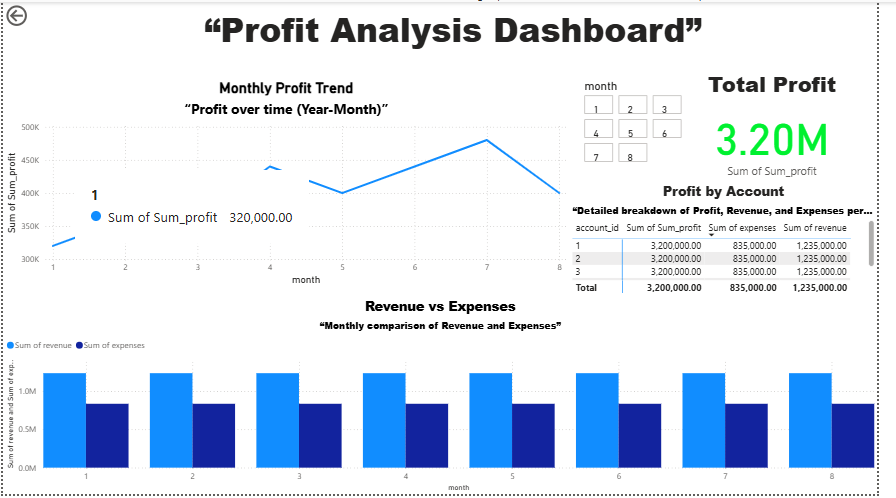

The dashboard page shown, as its layout file describes it:
{"tool":"powerbi","page":{"name":"Page 1","canvas":[1280,720],"ordinal":0},"visuals":[{"type":"lineChart","title":"Monthly Profit Trend","fields":{"Category":["ABC_output.month"],"Y":["Sum(ABC_output.Sum_profit)"]},"box":[0,113.1,829,306.6],"z":0},{"type":"actionButton","box":[0,0,100,40],"z":1000},{"type":"clusteredColumnChart","title":"Revenue vs Expenses","fields":{"Category":["ABC_output.year","ABC_output.month"],"Y":["Sum(Revenue_Expenses.revenue)","Sum(Revenue_Expenses.expenses)"]},"box":[0,431.6,1280,288.7],"z":2000},{"type":"pivotTable","title":"Profit by  Account","fields":{"Rows":["Accounts.account_id"],"Values":["Sum(ABC_output (2).Sum_profit)","Sum(Revenue_Expenses.expenses)","Sum(Revenue_Expenses.revenue)"]},"box":[829,251.5,451,168.2],"z":3000},{"type":"card","title":"Total Profit","fields":{"Values":["Sum(ABC_output.Sum_profit)"]},"box":[998.7,98.2,254.5,153.3],"z":4000},{"type":"advancedSlicerVisual","fields":{"Values":["ABC_output.month"]},"box":[845.4,113.1,153.3,128],"z":4001},{"type":"textbox","box":[99.7,0,1117.8,98.2],"z":4002}]}

Visuals, with their boxes in screenshot pixels (x1, y1, x2, y2), scaled from the page's 1280x720 canvas onto the 896x498 screenshot:
"Monthly Profit Trend" lineChart: Rect(0, 78, 580, 290)
actionButton: Rect(0, 0, 70, 28)
"Revenue vs Expenses" clusteredColumnChart: Rect(0, 299, 895, 497)
"Profit by  Account" pivotTable: Rect(580, 174, 895, 290)
"Total Profit" card: Rect(699, 68, 877, 174)
advancedSlicerVisual - ABC_output.month: Rect(592, 78, 699, 167)
textbox: Rect(70, 0, 852, 68)
